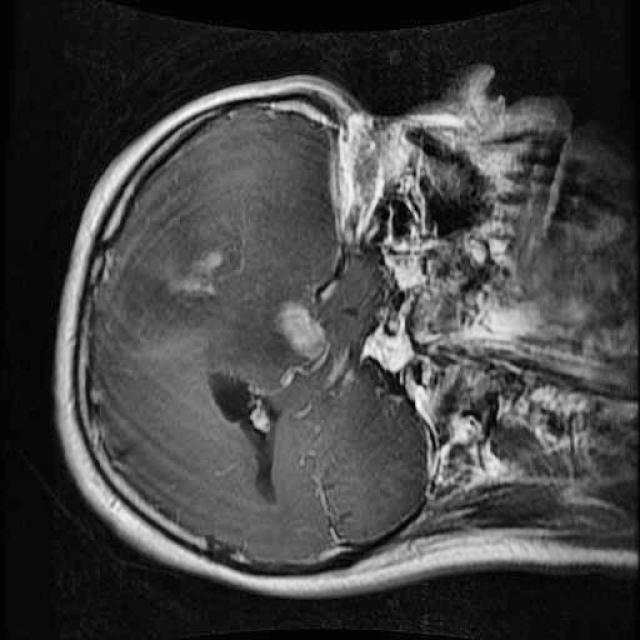Tumor: (268, 290, 348, 376)
